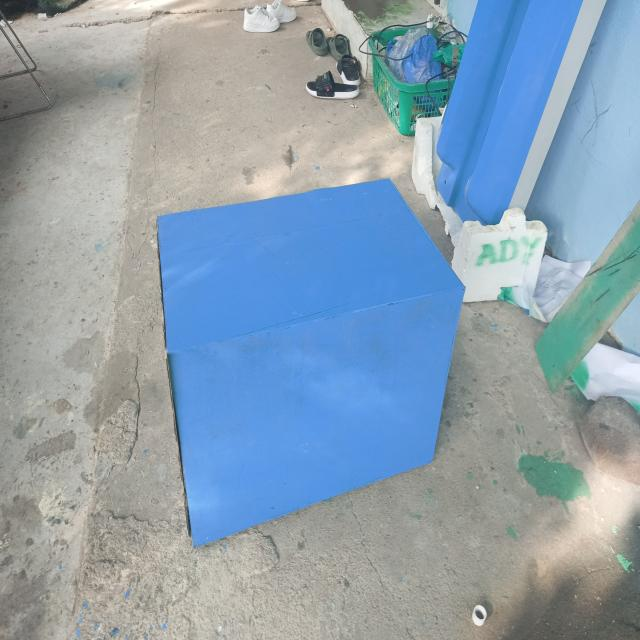blue_box: (142, 181, 478, 553)
